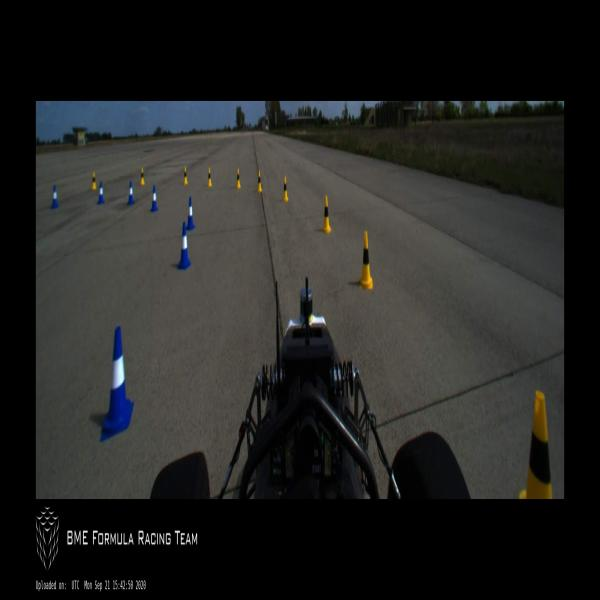blue_cone: (101, 326, 134, 438), (177, 222, 191, 270), (186, 196, 196, 231), (150, 185, 158, 212), (127, 181, 134, 204), (98, 182, 104, 205), (52, 186, 58, 209)
yellow_cone: (518, 392, 552, 499), (360, 231, 372, 290), (322, 196, 331, 234), (282, 176, 288, 202), (256, 170, 262, 193), (139, 167, 145, 186), (90, 172, 96, 190), (207, 167, 212, 186), (183, 167, 188, 185), (236, 169, 240, 189)
